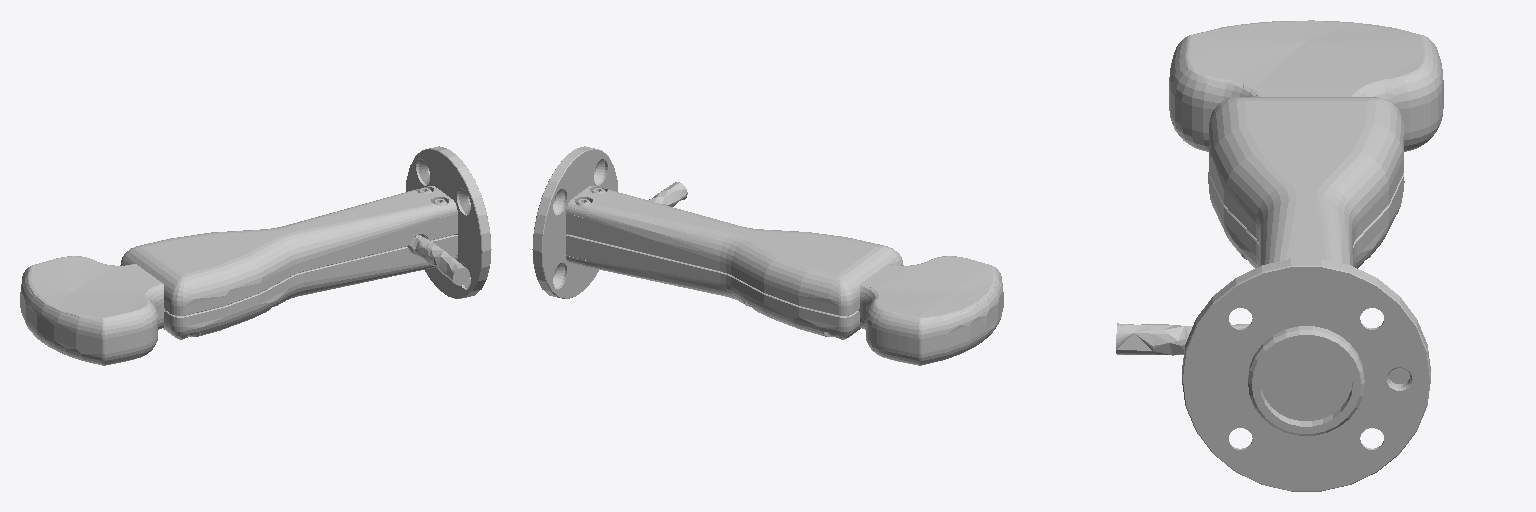
URDF robot description (panda):
<?xml version="1.0" ?>
<!-- =================================================================================== -->
<!-- |    This document was autogenerated by xacro from panda_arm.urdf.xacro           | -->
<!-- |    EDITING THIS FILE BY HAND IS NOT RECOMMENDED                                 | -->
<!-- =================================================================================== -->
<robot name="panda">
  <!-- sub-link defining detailed meshes for collision with environment -->
  <link name="panda_link0">
    <visual>
      <geometry>
        <mesh filename="meshes/visual/link0.dae"/>
      </geometry>
    </visual>
    <collision>
      <geometry>
        <mesh filename="meshes/collision/link0.stl"/>
      </geometry>
    </collision>
  </link>

  <!-- sub-link defining detailed meshes for collision with environment -->
  <link name="panda_link1">
    <visual>
      <geometry>
        <mesh filename="meshes/visual/link1.dae"/>
      </geometry>
    </visual>
    <collision>
      <geometry>
        <mesh filename="meshes/collision/link1.stl"/>
      </geometry>
    </collision>
  </link>

  <joint name="panda_joint1" type="revolute">
    <safety_controller k_position="100.0" k_velocity="40.0" soft_lower_limit="-2.8973" soft_upper_limit="2.8973"/>
    <origin rpy="0 0 0" xyz="0 0 0.333"/>
    <parent link="panda_link0"/>
    <child link="panda_link1"/>
    <axis xyz="0 0 1"/>
    <limit effort="87" lower="-2.8973" upper="2.8973" velocity="2.1750"/>
    <dynamics D="1" K="7000" damping="0.003" friction="0.0" mu_coulomb="0" mu_viscous="16"/>
  </joint>
  <!-- sub-link defining detailed meshes for collision with environment -->
  <link name="panda_link2">
    <visual>
      <geometry>
        <mesh filename="meshes/visual/link2.dae"/>
      </geometry>
    </visual>
    <collision>
      <geometry>
        <mesh filename="meshes/collision/link2.stl"/>
      </geometry>
    </collision>
  </link>

  <joint name="panda_joint2" type="revolute">
    <safety_controller k_position="100.0" k_velocity="40.0" soft_lower_limit="-1.7628" soft_upper_limit="1.7628"/>
    <origin rpy="-1.5707963267948966 0 0" xyz="0 0 0"/>
    <parent link="panda_link1"/>
    <child link="panda_link2"/>
    <axis xyz="0 0 1"/>
    <limit effort="87" lower="-1.7628" upper="1.7628" velocity="2.1750"/>
    <dynamics D="1" K="7000" damping="0.003" friction="0.0" mu_coulomb="0" mu_viscous="16"/>
  </joint>
  <!-- sub-link defining detailed meshes for collision with environment -->
  <link name="panda_link3">
    <visual>
      <geometry>
        <mesh filename="meshes/visual/link3.dae"/>
      </geometry>
    </visual>
    <collision>
      <geometry>
        <mesh filename="meshes/collision/link3.stl"/>
      </geometry>
    </collision>
  </link>

  <joint name="panda_joint3" type="revolute">
    <safety_controller k_position="100.0" k_velocity="40.0" soft_lower_limit="-2.8973" soft_upper_limit="2.8973"/>
    <origin rpy="1.5707963267948966 0 0" xyz="0 -0.316 0"/>
    <parent link="panda_link2"/>
    <child link="panda_link3"/>
    <axis xyz="0 0 1"/>
    <limit effort="87" lower="-2.8973" upper="2.8973" velocity="2.1750"/>
    <dynamics D="1" K="7000" damping="0.003" friction="0.0" mu_coulomb="0" mu_viscous="16"/>
  </joint>
  <!-- sub-link defining detailed meshes for collision with environment -->
  <link name="panda_link4">
    <visual>
      <geometry>
        <mesh filename="meshes/visual/link4.dae"/>
      </geometry>
    </visual>
    <collision>
      <geometry>
        <mesh filename="meshes/collision/link4.stl"/>
      </geometry>
    </collision>
  </link>

  <joint name="panda_joint4" type="revolute">
    <safety_controller k_position="100.0" k_velocity="40.0" soft_lower_limit="-3.0718" soft_upper_limit="-0.0698"/>
    <origin rpy="1.5707963267948966 0 0" xyz="0.0825 0 0"/>
    <parent link="panda_link3"/>
    <child link="panda_link4"/>
    <axis xyz="0 0 1"/>
    <limit effort="87" lower="-3.0718" upper="-0.0698" velocity="2.1750"/>
    <dynamics D="1" K="7000" damping="0.003" friction="0.0" mu_coulomb="0" mu_viscous="16"/>
  </joint>
  <!-- sub-link defining detailed meshes for collision with environment -->
  <link name="panda_link5">
    <visual>
      <geometry>
        <mesh filename="meshes/visual/link5.dae"/>
      </geometry>
    </visual>
    <collision>
      <geometry>
        <mesh filename="meshes/collision/link5.stl"/>
      </geometry>
    </collision>
  </link>

  <joint name="panda_joint5" type="revolute">
    <safety_controller k_position="100.0" k_velocity="40.0" soft_lower_limit="-2.8973" soft_upper_limit="2.8973"/>
    <origin rpy="-1.5707963267948966 0 0" xyz="-0.0825 0.384 0"/>
    <parent link="panda_link4"/>
    <child link="panda_link5"/>
    <axis xyz="0 0 1"/>
    <limit effort="12" lower="-2.8973" upper="2.8973" velocity="2.6100"/>
    <dynamics D="1" K="7000" damping="0.003" friction="0.0" mu_coulomb="0" mu_viscous="16"/>
  </joint>
  <!-- sub-link defining detailed meshes for collision with environment -->
  <link name="panda_link6">
    <visual>
      <geometry>
        <mesh filename="meshes/visual/link6.dae"/>
      </geometry>
    </visual>
    <collision>
      <geometry>
        <mesh filename="meshes/collision/link6.stl"/>
      </geometry>
    </collision>
  </link>

  <joint name="panda_joint6" type="revolute">
    <safety_controller k_position="100.0" k_velocity="40.0" soft_lower_limit="-0.0175" soft_upper_limit="3.7525"/>
    <origin rpy="1.5707963267948966 0 0" xyz="0 0 0"/>
    <parent link="panda_link5"/>
    <child link="panda_link6"/>
    <axis xyz="0 0 1"/>
    <limit effort="12" lower="-0.0175" upper="3.7525" velocity="2.6100"/>
    <dynamics D="1" K="7000" damping="0.003" friction="0.0" mu_coulomb="0" mu_viscous="16"/>
  </joint>
  <!-- sub-link defining detailed meshes for collision with environment -->
  <link name="panda_link7">
    <visual>
      <geometry>
        <mesh filename="meshes/visual/link7.dae"/>
      </geometry>
    </visual>
    <collision>
      <geometry>
        <mesh filename="meshes/collision/link7.stl"/>
      </geometry>
    </collision>
  </link>

  <joint name="panda_joint7" type="revolute">
    <safety_controller k_position="100.0" k_velocity="40.0" soft_lower_limit="-2.8973" soft_upper_limit="2.8973"/>
    <origin rpy="1.5707963267948966 0 0" xyz="0.088 0 0"/>
    <parent link="panda_link6"/>
    <child link="panda_link7"/>
    <axis xyz="0 0 1"/>
    <limit effort="12" lower="-2.8973" upper="2.8973" velocity="2.6100"/>
    <dynamics D="1" K="7000" damping="0.003" friction="0.0" mu_coulomb="0" mu_viscous="16"/>
  </joint>
  <link name="panda_link8"/>
  <joint name="panda_joint8" type="fixed">
    <origin rpy="0 0 0" xyz="0 0 0.107"/>
    <parent link="panda_link7"/>
    <child link="panda_link8"/>
  </joint>
  <joint name="panda_hand_joint" type="fixed">
    <parent link="panda_link8"/>
    <child link="panda_transducer"/>
    <origin rpy="0 0 0" xyz="-0.002 -0.002 0.046"/>
  </joint>
  <!-- sub-link defining detailed meshes for collision with environment -->
  <link name="panda_transducer">
    <visual>
      <geometry>
        <mesh filename="meshes/visual/transducer.dae"/>
      </geometry>
    </visual>
    <collision>
      <geometry>
        <mesh filename="meshes/collision/transducer.stl"/>
      </geometry>
    </collision>
  </link>

  <!-- Define the hand_tcp frame -->
  <link name="panda_transducer_tcp"/>
  <joint name="panda_transducer_tcp_joint" type="fixed">
    <origin rpy="0 0 0" xyz="0 0 0.1034"/>
    <parent link="panda_transducer"/>
    <child link="panda_transducer_tcp"/>
  </joint>

</robot>

--- Render facts (derived) ---
Views: 3 orthographic renders of the robot side by side, from view 1: azimuth 30°, elevation 25°; view 2: azimuth 150°, elevation 25°; view 3: azimuth 270°, elevation 25°.
Robot: panda — 11 links, 10 joints (7 revolute, 3 fixed); root link panda_link0; default pose: joints at zero except 1 at the middle of their limits (panda_joint4 = -1.57).
Links seen in each view (by area): view 1: panda_transducer; view 2: panda_transducer; view 3: panda_transducer.
Link boxes in pixels (box(x1,y1,x2,y2)): panda_transducer: box(20, 146, 491, 365); panda_transducer: box(532, 146, 1003, 365); panda_transducer: box(1116, 20, 1443, 491).
Bounding box of the posed robot: 0.213 × 0.088 × 0.067 m (x, y, z).
Meshes: 9 distinct files referenced, 1 mesh visuals loaded (1 Collada DAE); not drawn: 8 (reference not matched to a file when rendering).